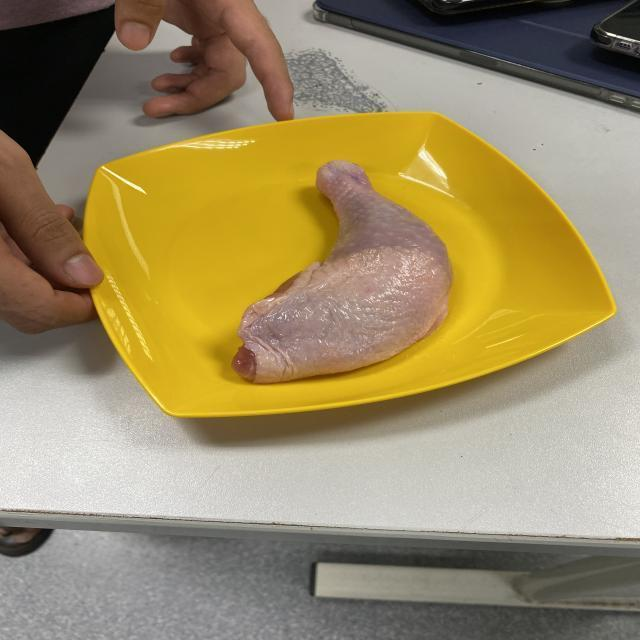quater: (223, 152, 458, 388)
